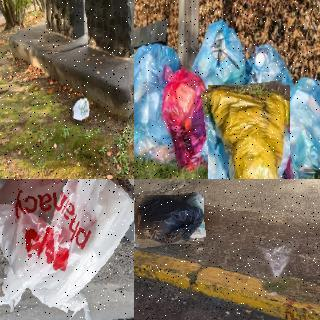Garbage: (0, 179, 134, 320), (204, 82, 293, 179), (162, 66, 220, 167), (134, 45, 182, 160), (191, 22, 247, 106), (276, 77, 320, 179), (134, 193, 205, 246), (247, 44, 294, 111), (134, 187, 161, 245), (70, 97, 91, 122)
